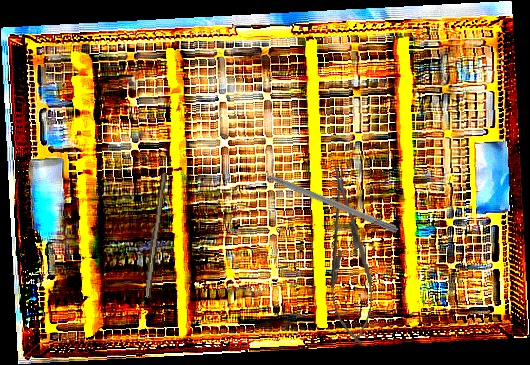Needle Holder: (318, 161, 379, 349)
Pusher: (243, 161, 400, 234)
Scalpel Handle: (142, 171, 168, 299)
